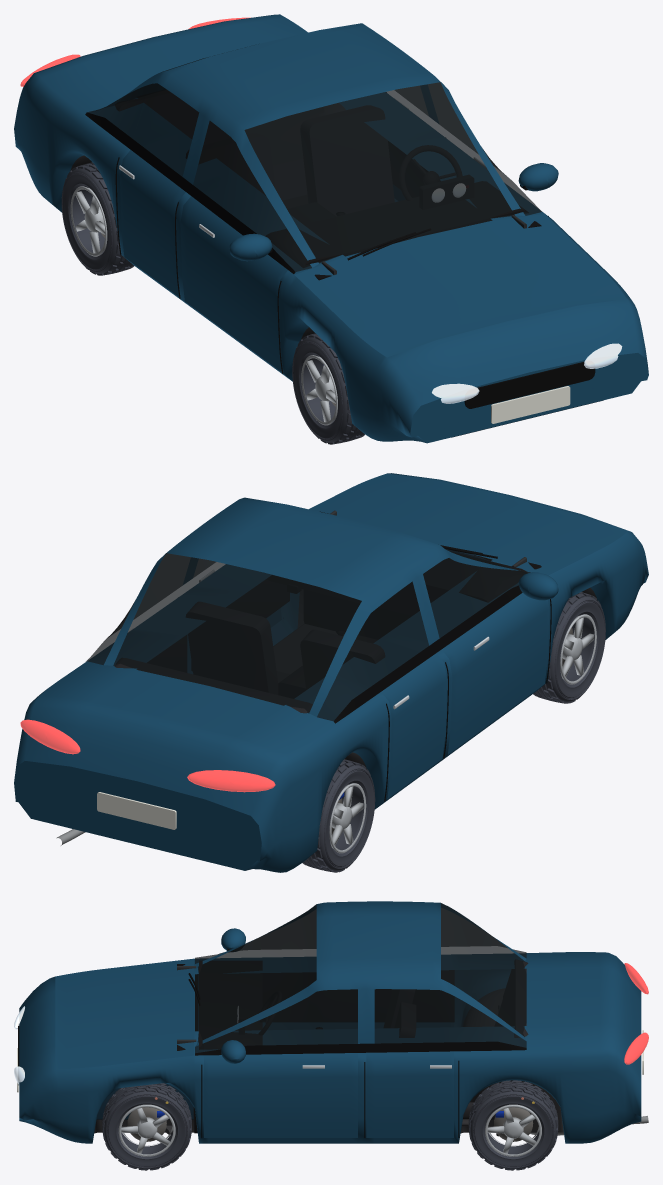
The model's file is harbor_commute.glb.
3 renders of one model, top to bottom at view 1: azimuth 30°, elevation 25°; view 2: azimuth 150°, elevation 25°; view 3: azimuth 270°, elevation 25°, orthographic. The views are drawn at different scales.
Parts seen in each view (by area): view 1: Greenhouse, Shell, HoodPanel, Shell3, FrontSeatBack, Dashboard, Shell5, NoseCap, Glass2, car-tire_body4, car-tire_body2, Glass4 (+16 smaller); view 2: Shell, Greenhouse, HoodPanel, TailCap, Shell3, Shell5, FrontSeatBack, Glass2, Dashboard, Glass4, car-tire_body4, car-tire_body2 (+14 smaller); view 3: Shell, Greenhouse, HoodPanel, Shell2, Shell4, Glass, Dashboard, car-tire_body3, car-tire_body, Glass3, Card2, Card4 (+13 smaller).
Boxes of the visible parts, x1=… form: Greenhouse: x1=85, y1=23, x2=541, y2=273; Shell: x1=14, y1=14, x2=648, y2=442; HoodPanel: x1=294, y1=214, x2=626, y2=357; Shell3: x1=180, y1=196, x2=287, y2=372; FrontSeatBack: x1=300, y1=105, x2=394, y2=216; Dashboard: x1=266, y1=181, x2=528, y2=267; Shell5: x1=120, y1=150, x2=185, y2=296; NoseCap: x1=410, y1=353, x2=648, y2=443; Glass2: x1=193, y1=121, x2=306, y2=265; car-tire_body4: x1=61, y1=162, x2=133, y2=275; car-tire_body2: x1=292, y1=333, x2=364, y2=444; Glass4: x1=132, y1=83, x2=199, y2=176; Shell: x1=14, y1=473, x2=648, y2=872; Greenhouse: x1=86, y1=497, x2=530, y2=723; HoodPanel: x1=309, y1=473, x2=626, y2=575; TailCap: x1=14, y1=761, x2=261, y2=870; Shell3: x1=441, y1=592, x2=549, y2=754; Shell5: x1=381, y1=653, x2=446, y2=798; FrontSeatBack: x1=186, y1=602, x2=277, y2=694; Glass2: x1=423, y1=558, x2=526, y2=637; Dashboard: x1=267, y1=552, x2=527, y2=615; Glass4: x1=362, y1=581, x2=428, y2=680; car-tire_body4: x1=302, y1=759, x2=375, y2=872; car-tire_body2: x1=533, y1=592, x2=605, y2=703; Shell: x1=19, y1=952, x2=641, y2=1143; Greenhouse: x1=195, y1=901, x2=526, y2=1055; HoodPanel: x1=55, y1=958, x2=194, y2=1069; Shell2: x1=204, y1=1053, x2=357, y2=1137; Shell4: x1=366, y1=1051, x2=453, y2=1137; Glass: x1=204, y1=989, x2=357, y2=1051; Dashboard: x1=199, y1=960, x2=262, y2=1049; car-tire_body3: x1=468, y1=1080, x2=558, y2=1170; car-tire_body: x1=102, y1=1083, x2=191, y2=1170; Glass3: x1=374, y1=989, x2=453, y2=1043; Card2: x1=263, y1=972, x2=357, y2=1021; Card4: x1=375, y1=970, x2=454, y2=1021.
Size of the model in its own units: 2.17 by 1.48 by 4.59.
32 materials, 5 textured.
